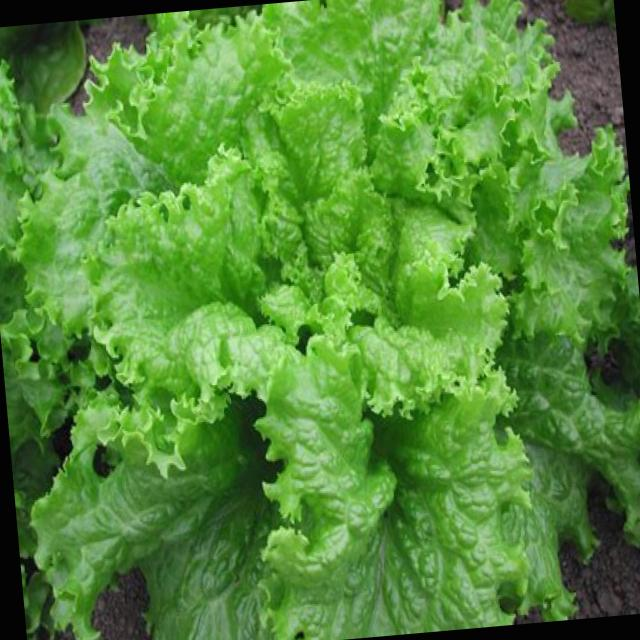Lettuce-Ready-to-Harvest: (63, 79, 562, 640)
